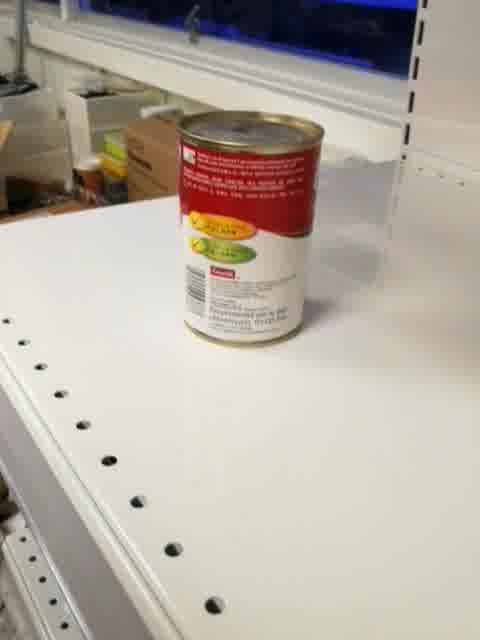tomatosoup: (175, 108, 327, 351)
